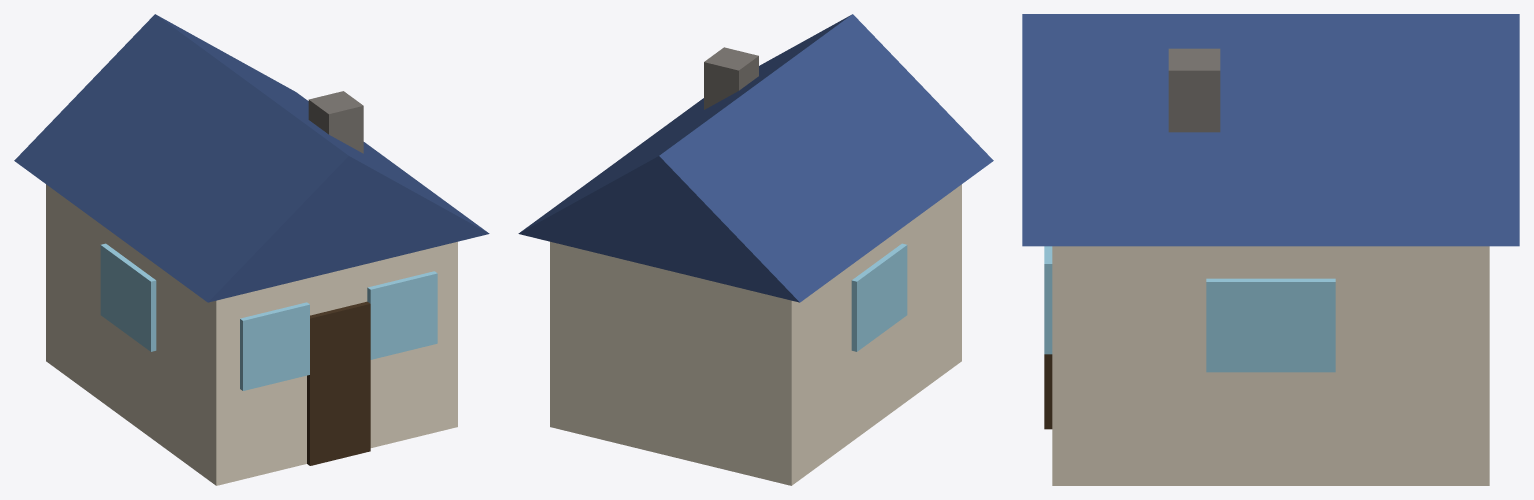
File: cottage_01.obj
The picture shows the model from 3 angles, left to right: view 1: azimuth 30°, elevation 25°; view 2: azimuth 150°, elevation 25°; view 3: azimuth 270°, elevation 25°; orthographic projection. The views are drawn at different scales.
Visible parts, largest first — view 1: roof, walls, windows, door, chimney; view 2: walls, roof, windows, chimney; view 3: roof, walls, windows, chimney, door.
Boxes of the visible parts, x1,y1,x2,y2 form: roof: [14, 14, 489, 302]; walls: [46, 184, 457, 485]; windows: [100, 243, 437, 390]; door: [307, 301, 370, 465]; chimney: [308, 91, 363, 153]; walls: [550, 184, 961, 485]; roof: [518, 14, 993, 302]; windows: [851, 243, 907, 351]; chimney: [704, 47, 758, 109]; roof: [1022, 14, 1519, 246]; walls: [1052, 246, 1489, 485]; windows: [1044, 246, 1335, 372]; chimney: [1168, 48, 1220, 132]; door: [1044, 354, 1052, 429].
Bounding box in the file's own units: 4.2 × 4.4 × 5.
